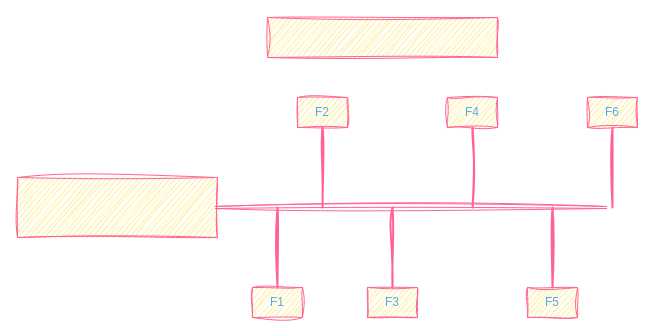
This 656x335 diagram has some shape labels left out. Each missing label, with the centre of its shape:
DIAGRAMA A: point 382,37
FORNECEDOR PRINCPAL: point 117,207
